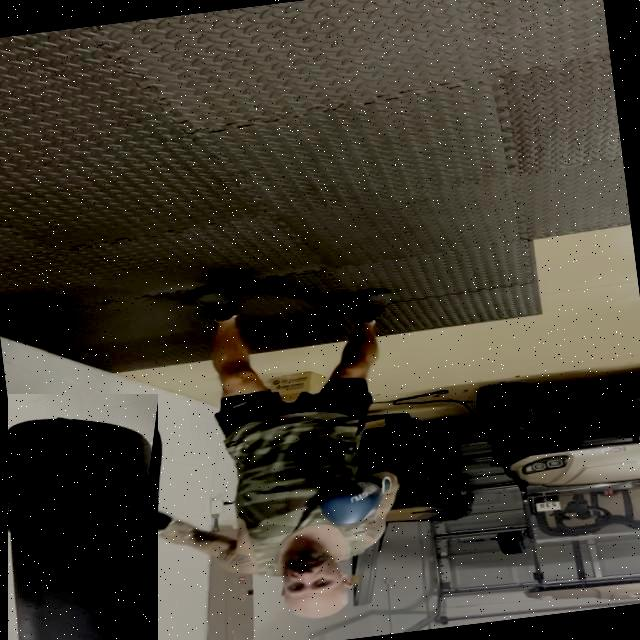punch: (116, 458, 417, 640)
